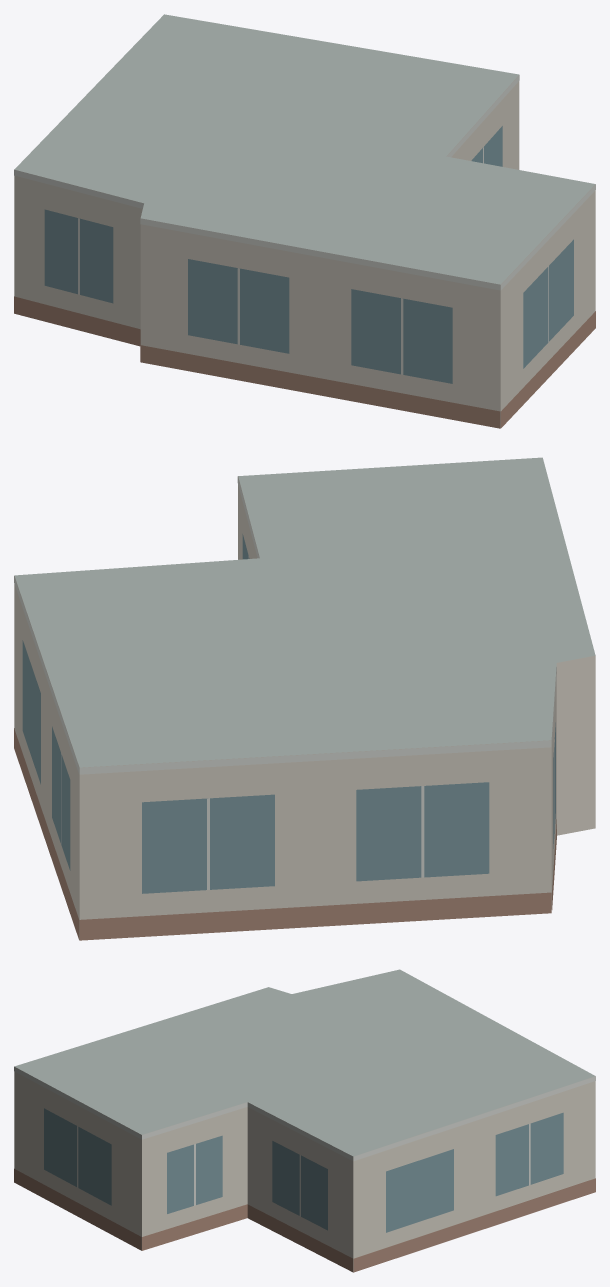
The model's file is survey-upis-32978793.glb.
The picture shows the model from 3 angles, top to bottom: view 1: azimuth 30°, elevation 25°; view 2: azimuth 150°, elevation 25°; view 3: azimuth 270°, elevation 25°; orthographic projection. The views are drawn at different scales.
Parts seen in each view (by area): view 1: survey-upis-32978793.tmp; view 2: survey-upis-32978793.tmp; view 3: survey-upis-32978793.tmp.
Part boxes in pixels (x1,y1,x2,y2): survey-upis-32978793.tmp: [14, 14, 595, 428]; survey-upis-32978793.tmp: [14, 457, 595, 940]; survey-upis-32978793.tmp: [14, 969, 595, 1272].
Size of the model in its own units: 10.57 by 3.05 by 13.88.
